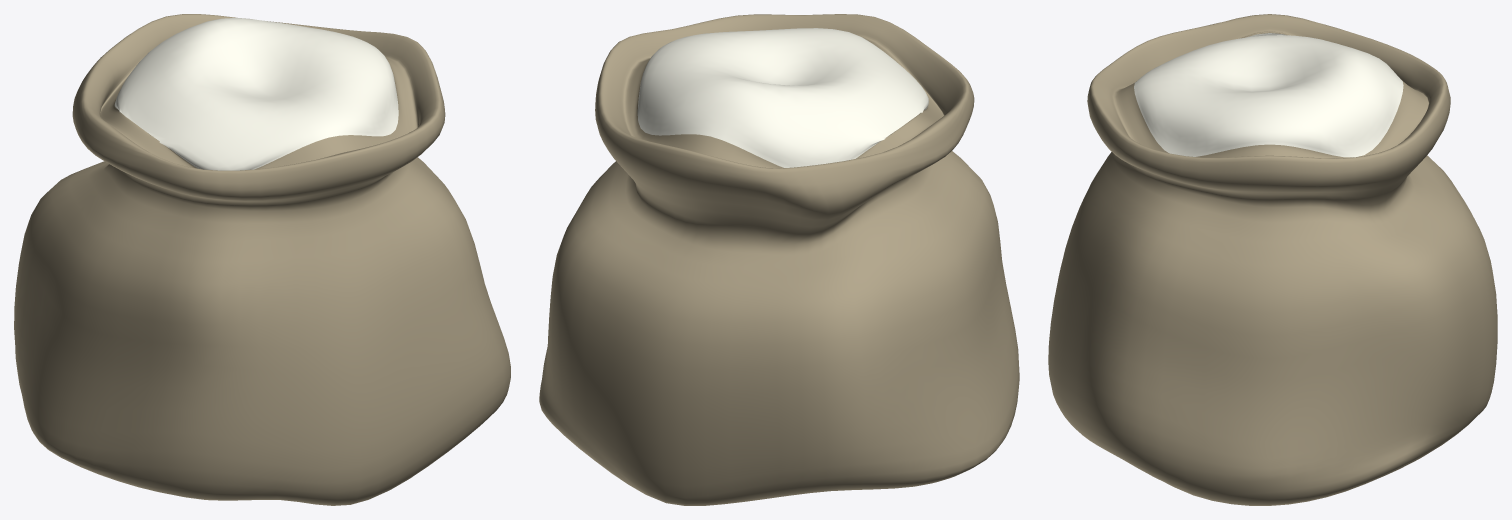
The model's file is flour_usethis.fbx.
The picture shows the model from 3 angles, left to right: view 1: azimuth 30°, elevation 25°; view 2: azimuth 150°, elevation 25°; view 3: azimuth 270°, elevation 25°; orthographic projection. The views are drawn at different scales.
Visible parts, largest first — view 1: flour1; view 2: flour1; view 3: flour1.
Part boxes in pixels (x1,y1,x2,y2): flour1: (14,14,510,505); flour1: (539,14,1019,505); flour1: (1048,14,1497,505).
Bounding box in the file's own units: 1.86 × 1.6 × 1.76.
